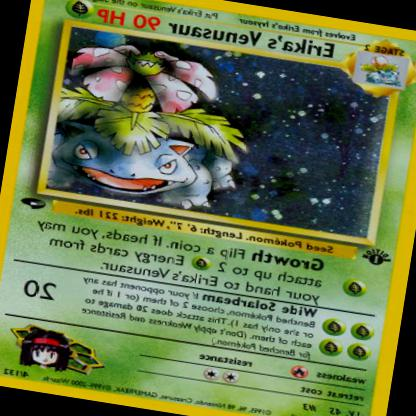Venusaur: (51, 34, 266, 219)
